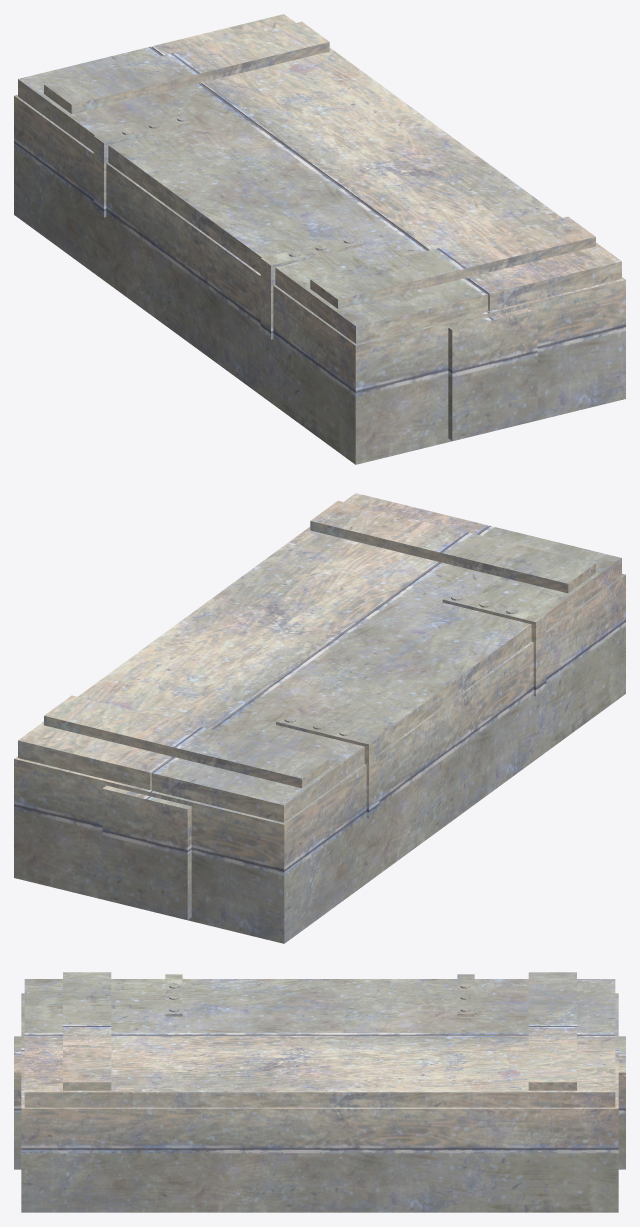
Rendered from FloorBox.fbx.
3 renders of one model, top to bottom at view 1: azimuth 30°, elevation 25°; view 2: azimuth 150°, elevation 25°; view 3: azimuth 270°, elevation 25°, orthographic. The views are drawn at different scales.
Visible parts, largest first — view 1: Floorbox1; view 2: Floorbox1; view 3: Floorbox1.
Part boxes in pixels (x1,y1,x2,y2): Floorbox1: (14, 14, 625, 464); Floorbox1: (14, 493, 625, 943); Floorbox1: (14, 972, 625, 1212).
Size of the model in its own units: 181 by 92.58 by 402.
Materials: 1 (1 with a texture image).
